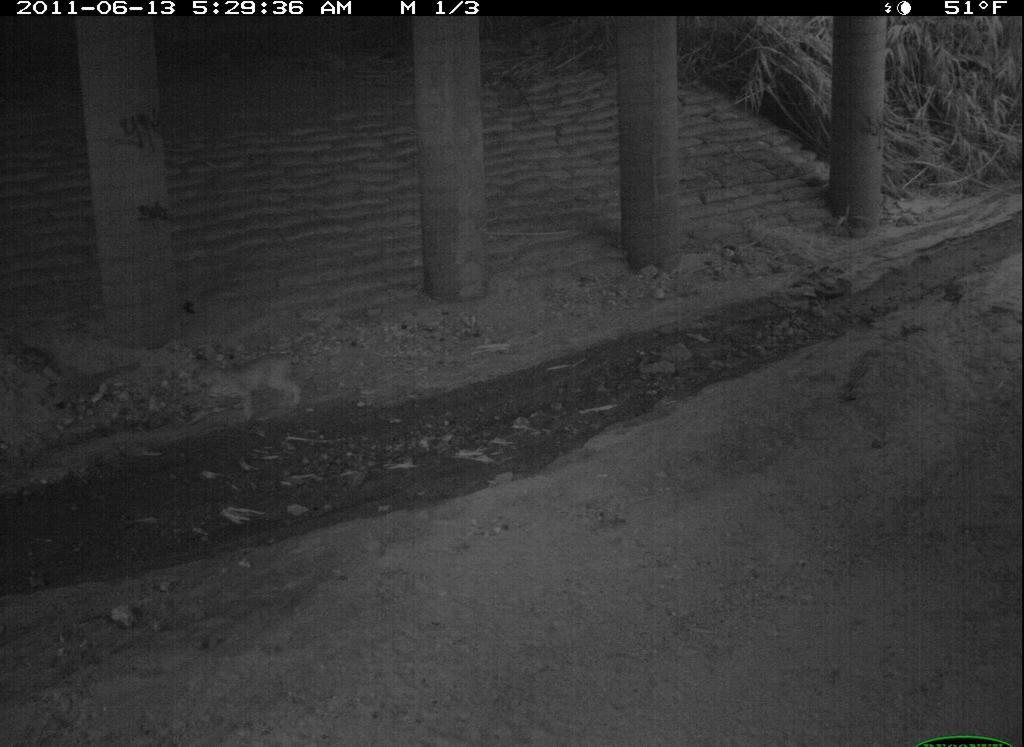bobcat: (365, 694, 616, 747)
